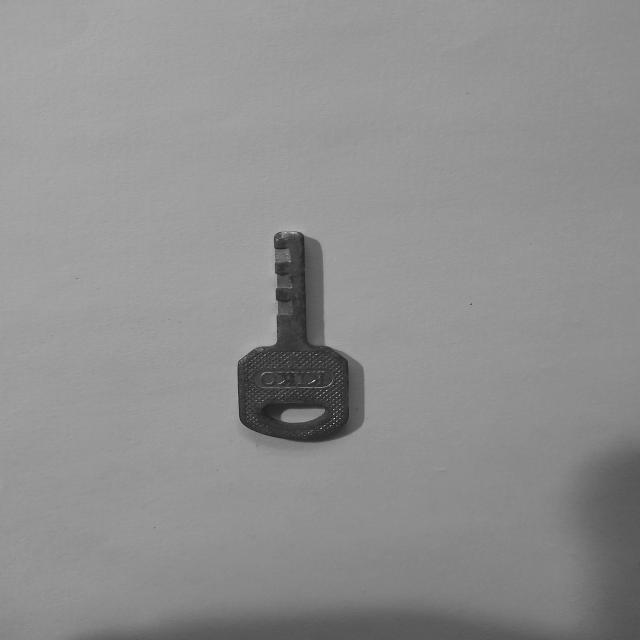KEY: (237, 232, 348, 440)
